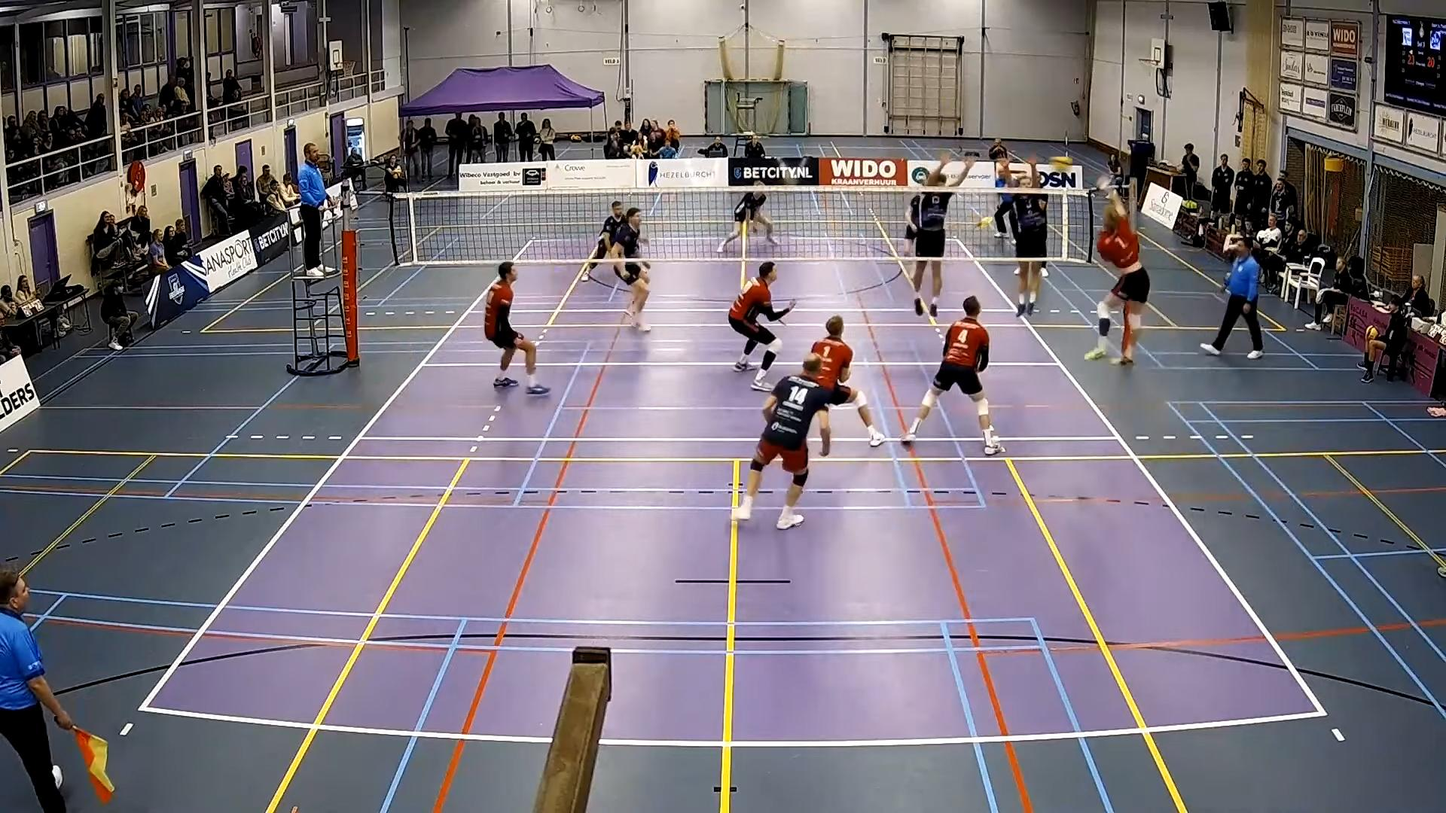attacco: (1080, 181, 1158, 369)
muro: (905, 153, 980, 319), (997, 147, 1049, 326)
